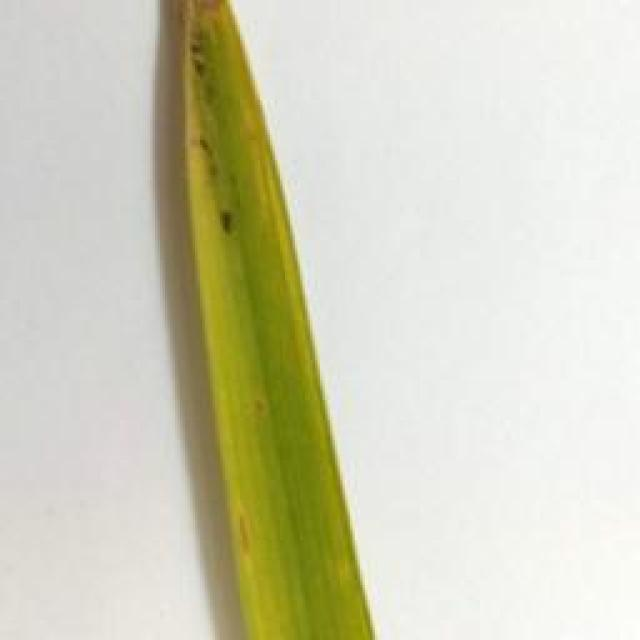Brown_Spot: (182, 116, 221, 176), (178, 37, 214, 95), (229, 502, 250, 564), (249, 399, 282, 418), (209, 212, 256, 225)
